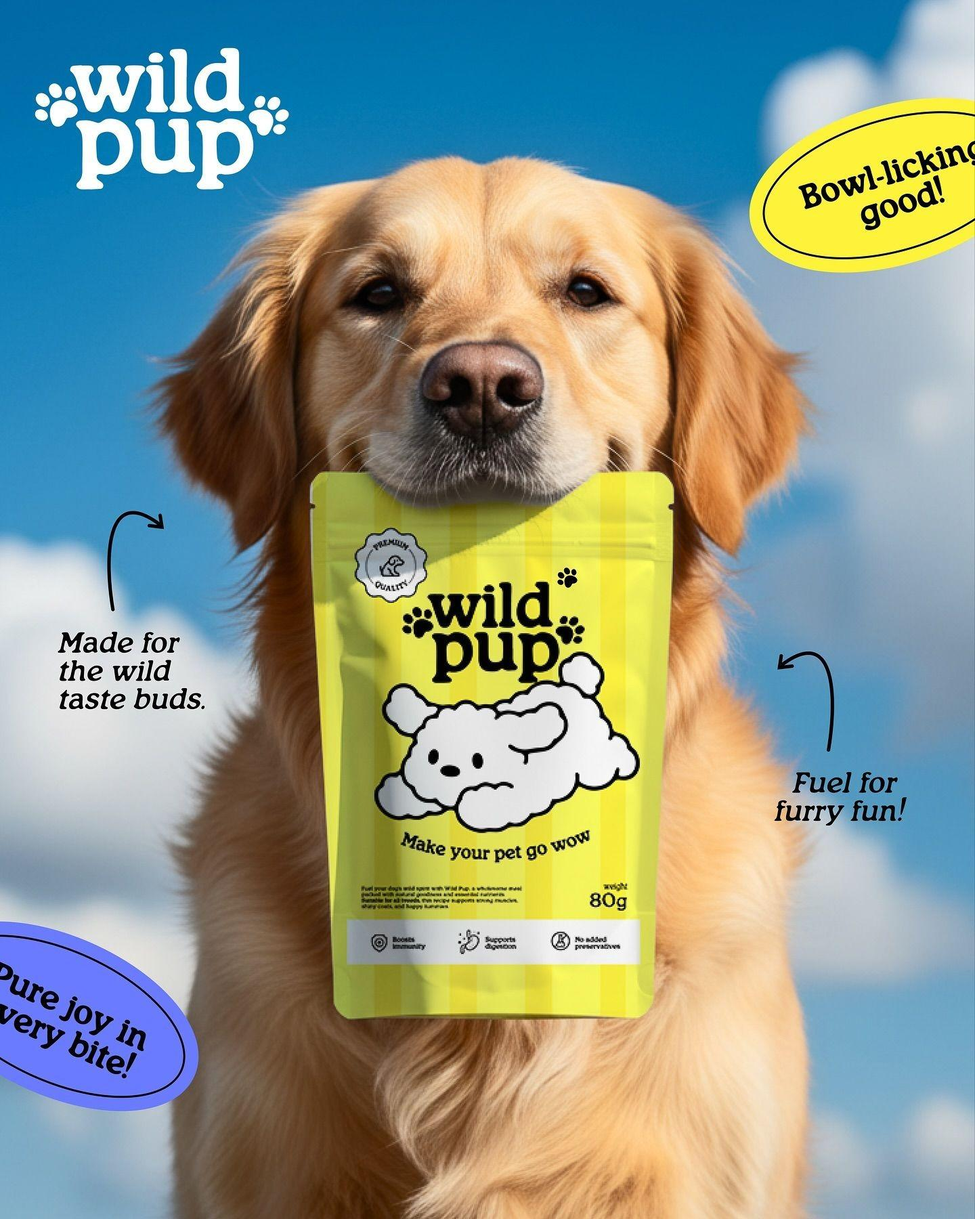adult_dog: (148, 152, 817, 1219)
